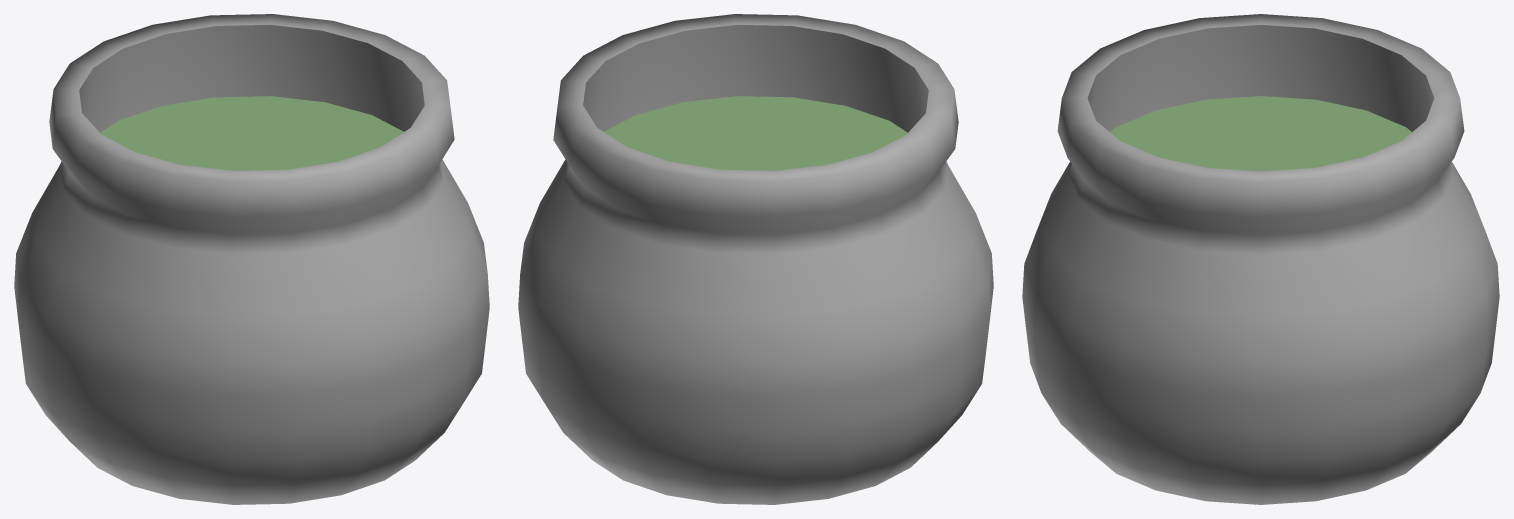
File: Cauldron.fbx
The picture shows the model from 3 angles, left to right: view 1: azimuth 30°, elevation 25°; view 2: azimuth 150°, elevation 25°; view 3: azimuth 270°, elevation 25°; orthographic projection.
Visible parts, largest first — view 1: pDisc2; view 2: pDisc2; view 3: pDisc2.
Boxes of the visible parts, left/top/right/bottom form: pDisc2: left=14, top=14, right=489, bottom=504; pDisc2: left=518, top=14, right=993, bottom=504; pDisc2: left=1022, top=14, right=1499, bottom=504.
Bounding box in the file's own units: 1.6 × 1.22 × 1.6.
